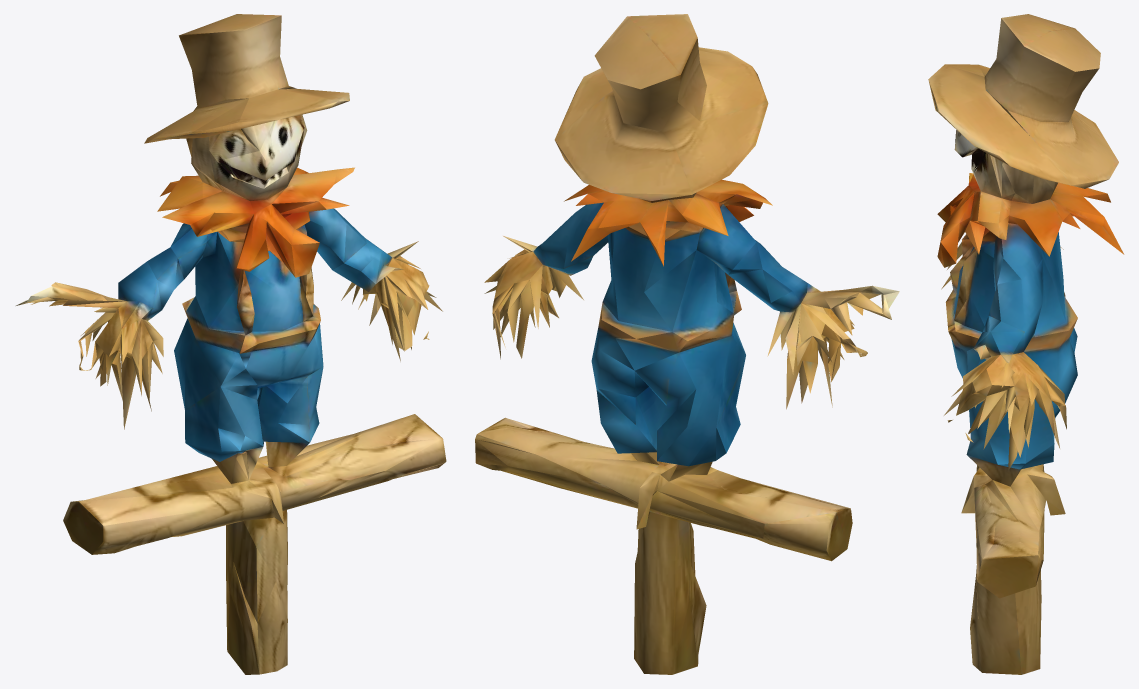
The model's file is scarecrowPost.glb.
3 renders of one model, left to right at view 1: azimuth 30°, elevation 25°; view 2: azimuth 150°, elevation 25°; view 3: azimuth 270°, elevation 25°, orthographic. The views are drawn at different scales.
Visible parts, largest first — view 1: model; view 2: model; view 3: model.
Part boxes in pixels (<box>): model: <box>16,14,446,674</box>; model: <box>475,14,899,674</box>; model: <box>928,14,1124,674</box>.
Size of the model in its own units: 1.28 by 1.91 by 0.5273.
Materials: 1 (1 with a texture image).
